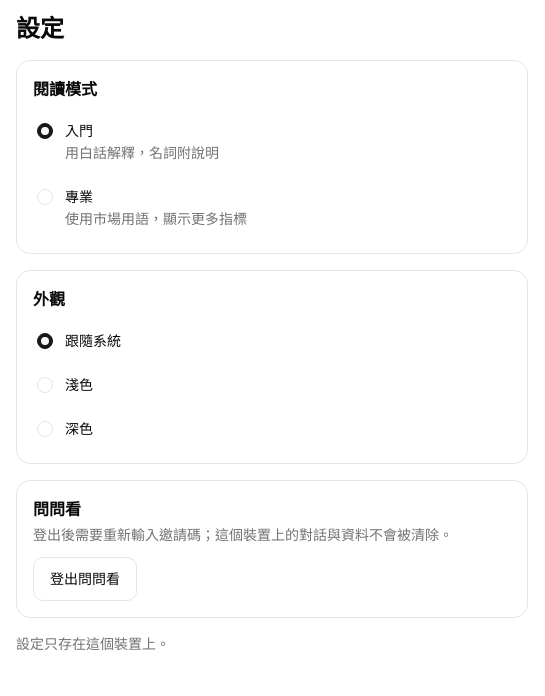
SettingsScreen › says so when the sign-out failed
This screenshot has width=545, height=696.
What coordinates should you click on to do the following:
click the button "登出問問看"
I would click on:
 (85, 579)
Its box is [33,557,137,601].
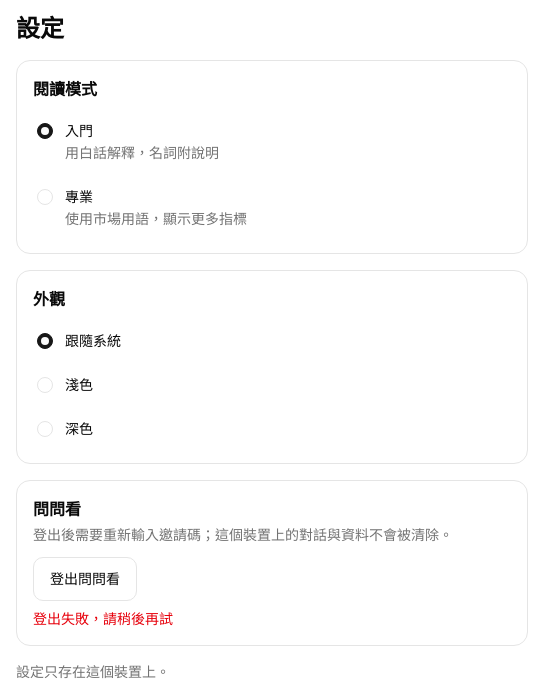
Check: the message shows "登出失敗", box [33,609,173,628]
